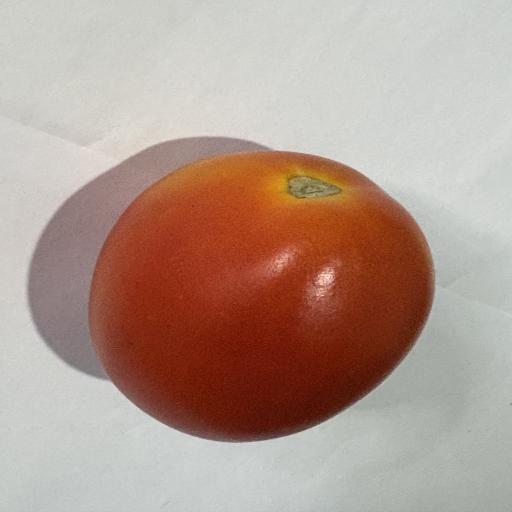ripe: (89, 152, 434, 441)
